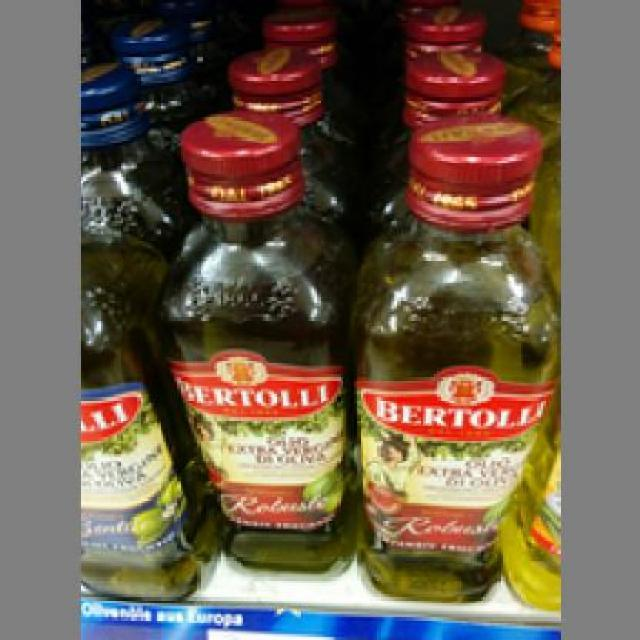Oil: (351, 108, 560, 594), (157, 109, 354, 572)
